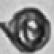correct: (0, 1, 52, 52)
